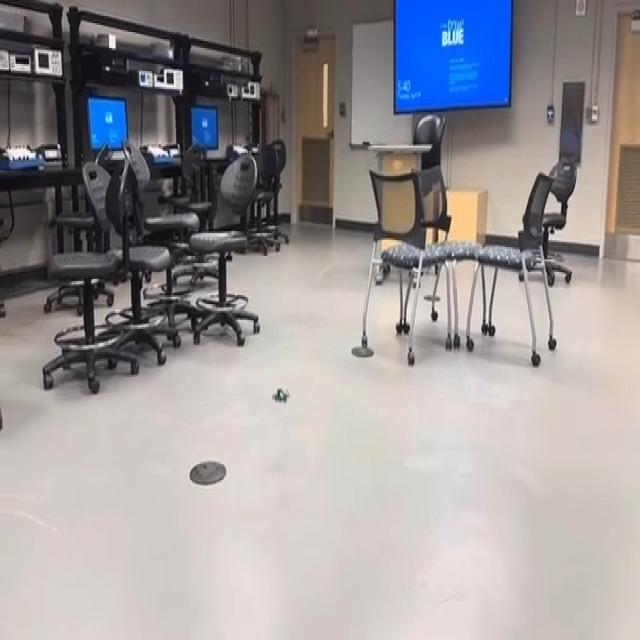drone: (266, 374, 298, 418)
